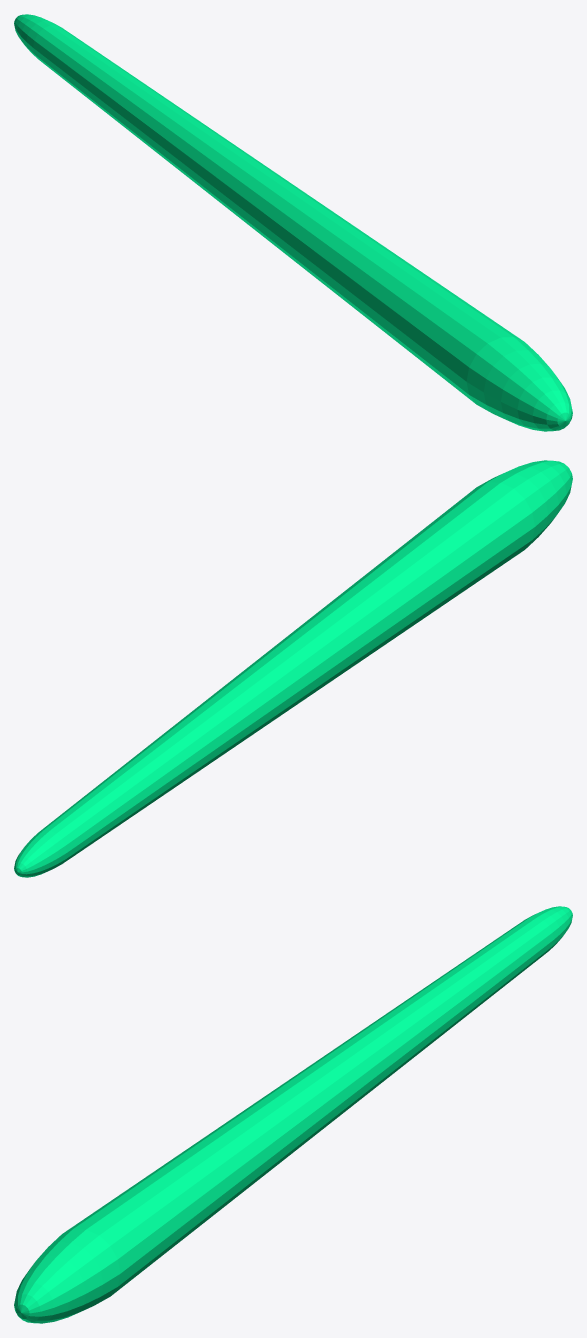
Rendered from Beam(Green).fbx.
The picture shows the model from 3 angles, top to bottom: view 1: azimuth 30°, elevation 25°; view 2: azimuth 150°, elevation 25°; view 3: azimuth 330°, elevation 25°; orthographic projection.
Parts seen in each view (by area): view 1: Beam; view 2: Beam; view 3: Beam.
Part boxes in pixels (box(x1,y1,x2,y2)): Beam: box(14, 14, 572, 431); Beam: box(14, 460, 572, 877); Beam: box(14, 906, 572, 1323).
Bounding box in the file's own units: 0.7846 × 0.7846 × 10.87.
